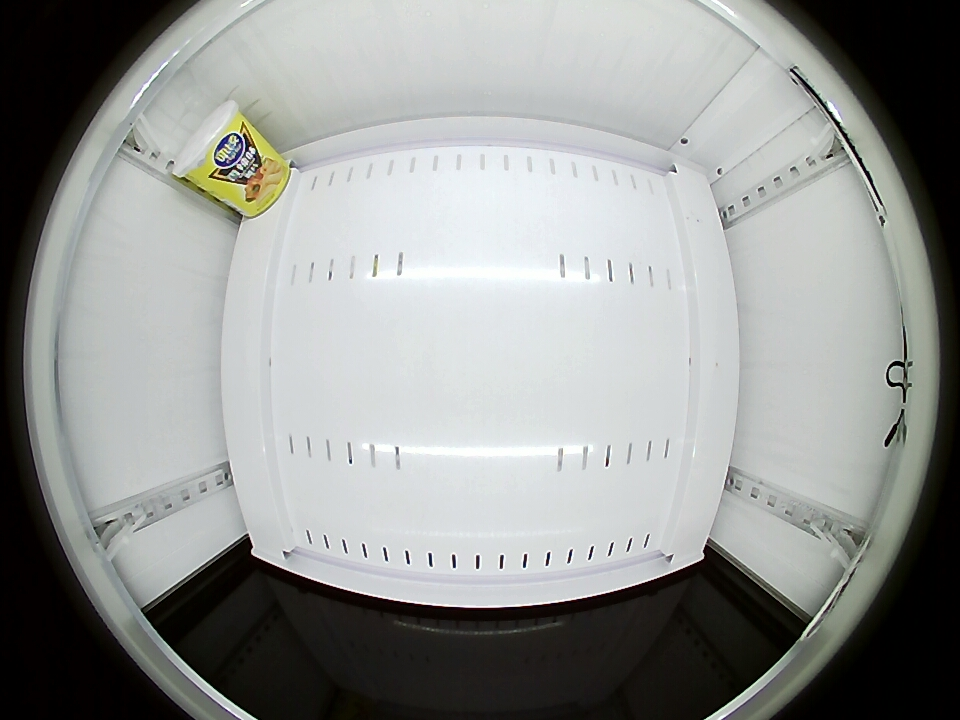kebike: (172, 101, 250, 188)
